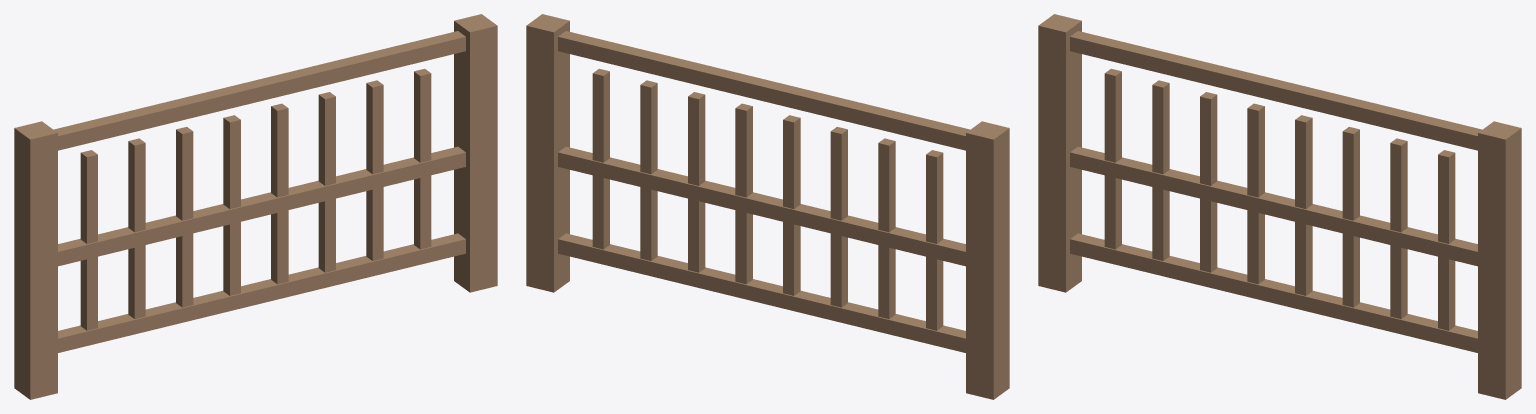
3 views of the same model, side by side, from view 1: azimuth 30°, elevation 25°; view 2: azimuth 150°, elevation 25°; view 3: azimuth 330°, elevation 25° (orthographic).
Parts seen in each view (by area): view 1: Palo_Sinistro, Palo_Destro, Traversa_3, Traversa_1, Traversa_2, Sbarra_8, Sbarra_3, Sbarra_5, Sbarra_2, Sbarra_7, Sbarra_1, Sbarra_4 (+1 smaller); view 2: Palo_Sinistro, Palo_Destro, Traversa_3, Traversa_1, Traversa_2, Sbarra_8, Sbarra_3, Sbarra_5, Sbarra_2, Sbarra_7, Sbarra_1, Sbarra_4 (+1 smaller); view 3: Palo_Destro, Palo_Sinistro, Traversa_3, Traversa_1, Traversa_2, Sbarra_1, Sbarra_4, Sbarra_6, Sbarra_2, Sbarra_7, Sbarra_8, Sbarra_3 (+1 smaller).
Boxes of the visible parts, x1,y1,x2,y2 form: Palo_Sinistro: (14,121,57,399); Palo_Destro: (454,14,497,292); Traversa_3: (54,31,465,150); Traversa_1: (58,233,465,352); Traversa_2: (58,146,465,266); Sbarra_8: (414,68,431,249); Sbarra_3: (176,127,193,307); Sbarra_5: (271,103,288,284); Sbarra_2: (128,138,145,318); Sbarra_7: (366,80,383,260); Sbarra_1: (80,150,97,330); Sbarra_4: (223,115,240,295); Palo_Sinistro: (966,121,1009,399); Palo_Destro: (526,14,569,292); Traversa_3: (558,31,969,150); Traversa_1: (558,233,965,352); Traversa_2: (558,146,965,266); Sbarra_8: (592,68,609,249); Sbarra_3: (830,127,847,307); Sbarra_5: (735,103,752,284); Sbarra_2: (878,138,895,318); Sbarra_7: (640,80,657,260); Sbarra_1: (926,150,943,330); Sbarra_4: (783,115,800,295); Palo_Destro: (1478,121,1521,399); Palo_Sinistro: (1038,14,1081,292); Traversa_3: (1070,31,1481,150); Traversa_1: (1070,233,1477,352); Traversa_2: (1070,146,1477,266); Sbarra_1: (1104,68,1121,249); Sbarra_4: (1247,103,1264,284); Sbarra_6: (1342,127,1359,307); Sbarra_2: (1152,80,1169,260); Sbarra_7: (1390,138,1407,318); Sbarra_8: (1438,150,1455,330); Sbarra_3: (1200,92,1217,272).
Bounding box in the file's own units: 3.38 × 1.8 × 0.2.
